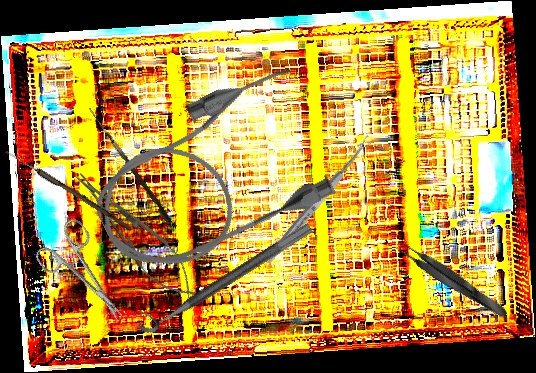Cannula: (71, 56, 350, 294)
Fixation Ring: (130, 207, 314, 339)
Hook Surgical: (83, 107, 175, 225)
Iris Scissors: (29, 215, 144, 341)
Needle Holder: (64, 161, 207, 309)
Surgical Spoon: (263, 134, 376, 265), (3, 148, 133, 231)
Tissue Forceps: (393, 237, 511, 323)
